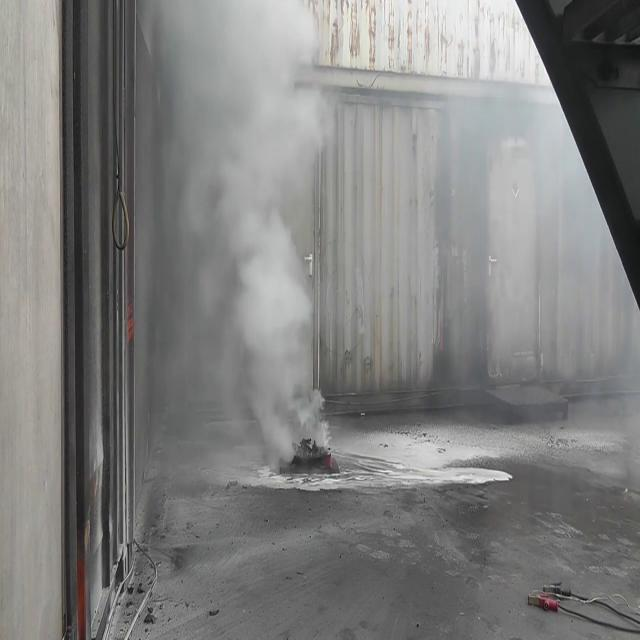Smoke: (136, 1, 334, 470)
